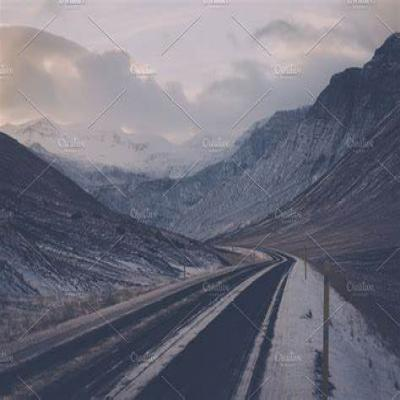iced-road: (0, 267, 261, 400), (138, 262, 291, 400)
